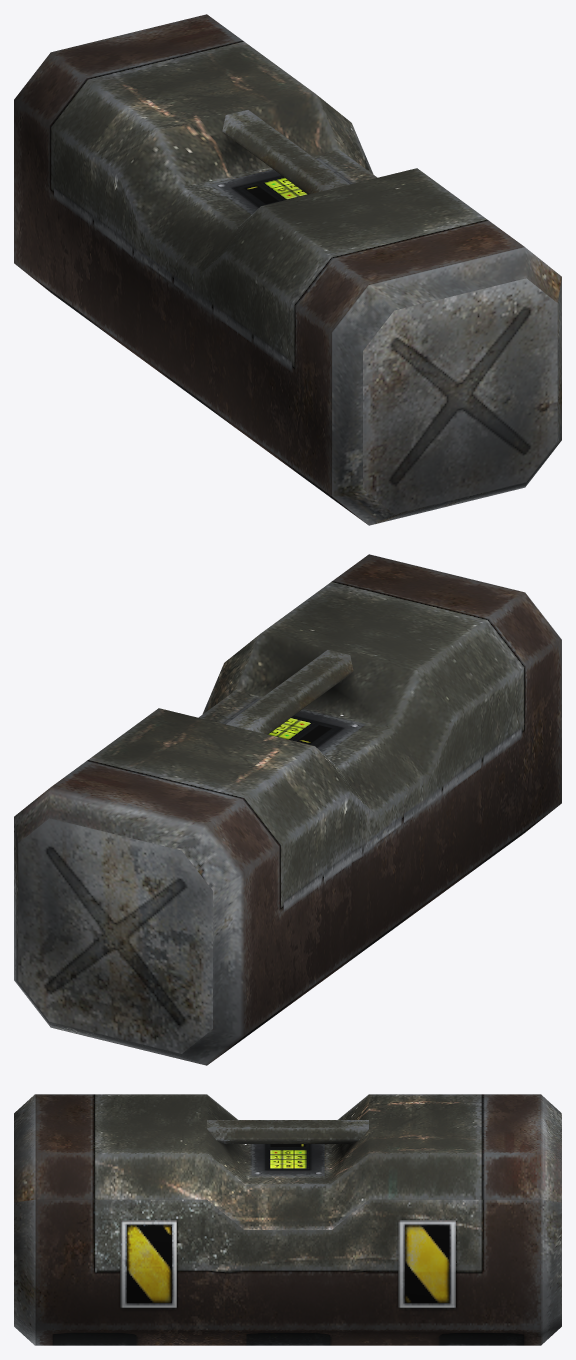
Rendered from ammo_box.obj.
3 views of the same model, one above another, from view 1: azimuth 30°, elevation 25°; view 2: azimuth 150°, elevation 25°; view 3: azimuth 270°, elevation 25° (orthographic). The views are drawn at different scales.
Parts seen in each view (by area): view 1: Ammo_box; view 2: Ammo_box; view 3: Ammo_box.
Boxes of the visible parts, x1=… form: Ammo_box: x1=14, y1=14, x2=561, y2=525; Ammo_box: x1=14, y1=554, x2=561, y2=1065; Ammo_box: x1=14, y1=1094, x2=561, y2=1345.
Bounding box in the file's own units: 50 × 50 × 130.
1 material, 1 textured.
